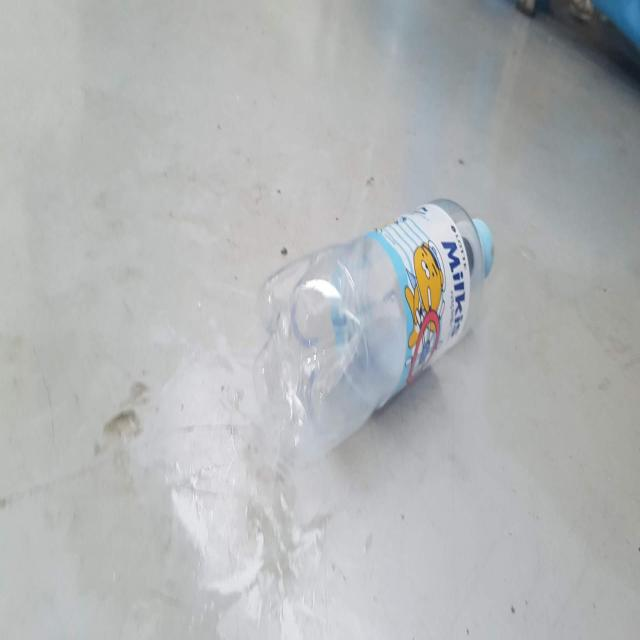plastic: (254, 198, 494, 462)
